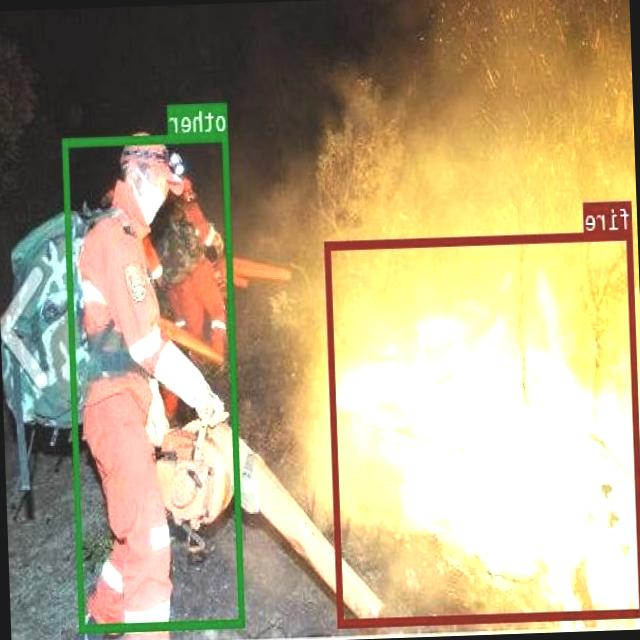fire: (325, 229, 640, 626)
